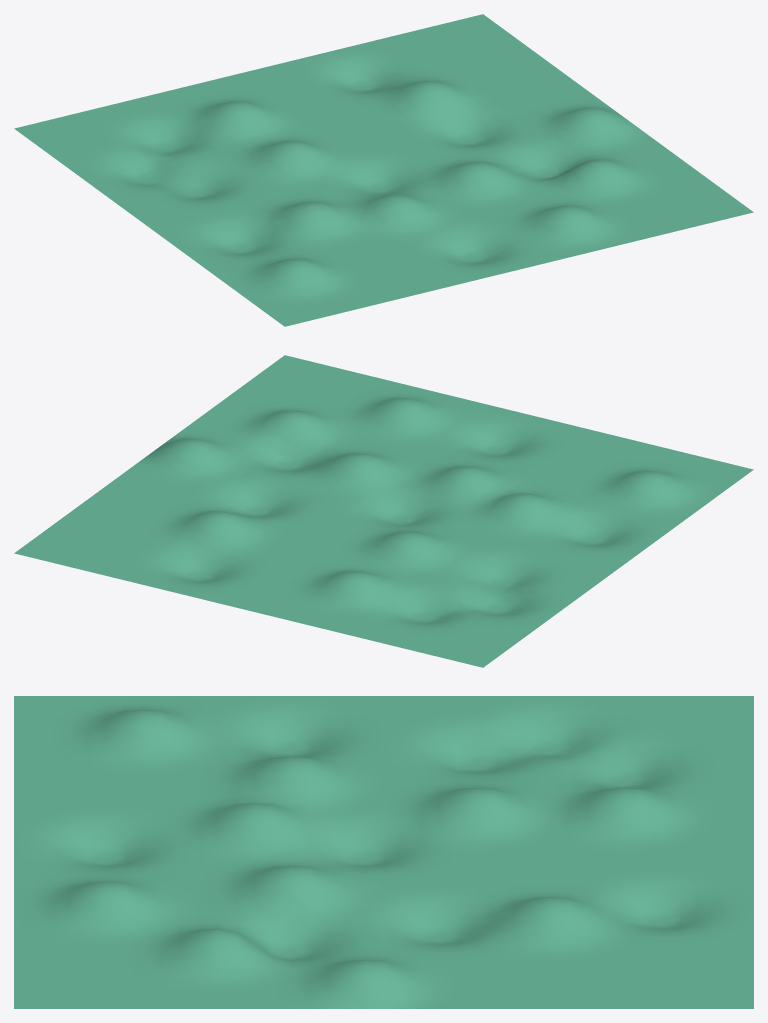
File: Ground.fbx
The picture shows the model from 3 angles, top to bottom: view 1: azimuth 30°, elevation 25°; view 2: azimuth 150°, elevation 25°; view 3: azimuth 270°, elevation 25°; orthographic projection. The views are drawn at different scales.
Parts seen in each view (by area): view 1: pPlane1; view 2: pPlane1; view 3: pPlane1.
Boxes of the visible parts, x1,y1,x2,y2 form: pPlane1: [14, 14, 753, 326]; pPlane1: [14, 355, 753, 667]; pPlane1: [14, 696, 753, 1008].
Bounding box in the file's own units: 50 × 2.46 × 50.
